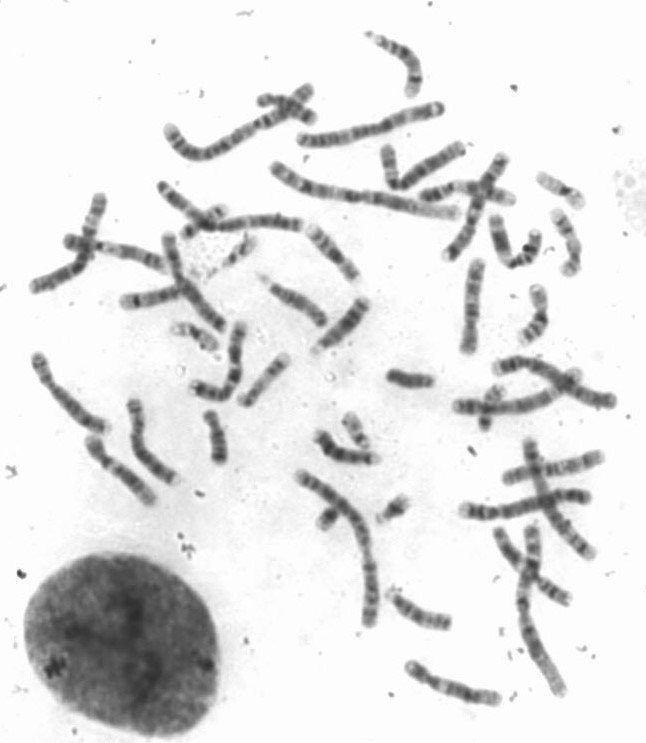chromosomes: (289, 467, 386, 637), (268, 160, 468, 231), (164, 74, 316, 165), (518, 429, 605, 565), (512, 521, 573, 704), (24, 343, 117, 443), (25, 189, 107, 302), (439, 151, 512, 269), (292, 100, 453, 153), (493, 350, 622, 412), (161, 229, 233, 338), (450, 366, 590, 419), (494, 519, 574, 610), (80, 431, 162, 516), (123, 395, 185, 493), (188, 318, 252, 406), (403, 658, 508, 711), (376, 137, 470, 194), (60, 228, 171, 273), (498, 446, 615, 487), (448, 488, 596, 518), (306, 295, 374, 360), (365, 29, 428, 99), (256, 274, 329, 332), (304, 220, 366, 288), (307, 424, 391, 474), (232, 348, 295, 413), (179, 212, 307, 243), (487, 209, 547, 274), (382, 582, 458, 632), (416, 180, 522, 215), (152, 176, 232, 222), (115, 277, 194, 319), (550, 207, 588, 284), (254, 90, 324, 131), (461, 252, 485, 362), (513, 280, 550, 346), (534, 170, 589, 211), (168, 320, 225, 358), (201, 404, 233, 469), (476, 380, 511, 437), (368, 491, 415, 530), (381, 366, 441, 396), (341, 409, 377, 454), (221, 231, 261, 270), (311, 502, 342, 539)
